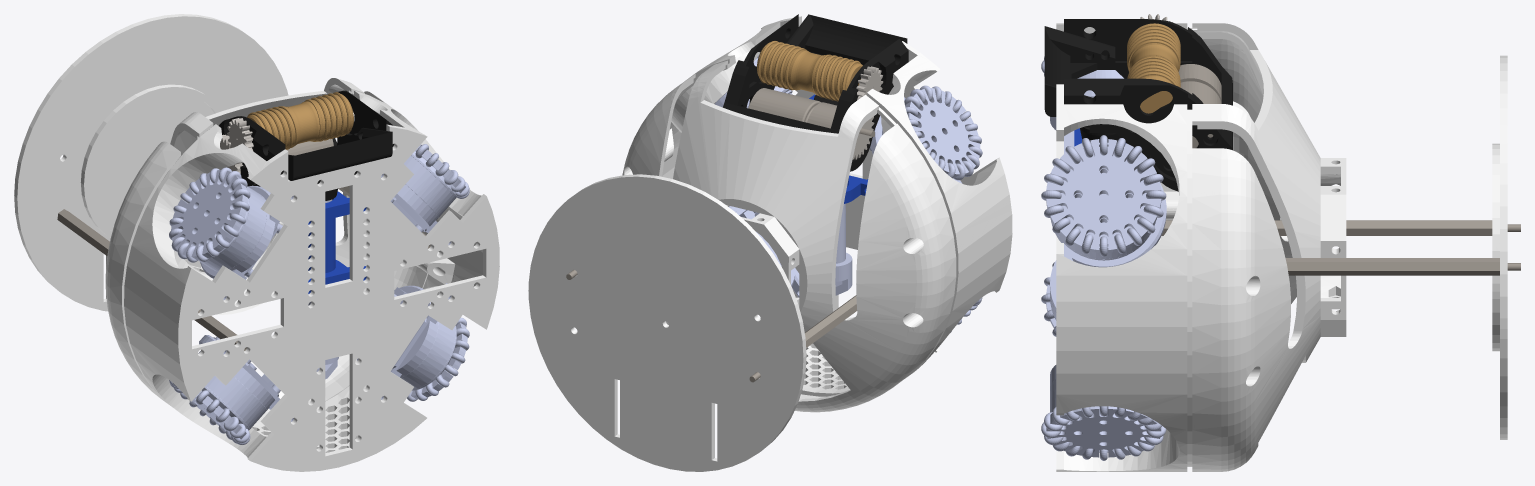
File: white.dae
The picture shows the model from 3 angles, left to right: view 1: azimuth 30°, elevation 25°; view 2: azimuth 150°, elevation 25°; view 3: azimuth 270°, elevation 25°; orthographic projection. The views are drawn at different scales.
Parts seen in each view (by area): view 1: node_3ff6a1fe_1cc8_49cc_9179_00ad8195f03d_mesh0, node_cc28397b_6e0a_477d_af67_ad8a3c4fa3c4_mesh0, node_f33fe21d_2a13_414c_9b8f_e99a0c592262_mesh0, node_ee789e72_c530_4512_9e09_5a3aa8ee8e9d_mesh0, node_b406ad30_0e1e_4aae_975f_659c6a06e58f_mesh0, node_2034029b_8649_498c_b8b5_ca5f5e407f8b_mesh0, node_f1f51d3c_36ec_4f76_a2a5_a3d44df8156d_mesh0, node_0c529241_4035_48ce_85be_b0c6907b59df_mesh0, node_a46794fe_b9b9_458e_83d2_d6c06e868703_mesh0, node_f8143374_f513_43b2_8296_ff6a9ff105f2_mesh0, node_e9de9418_07e8_4656_b547_eb7011403bdc_mesh0, node_e0108f64_dc8d_4784_98ee_9a3391516459_mesh0 (+5 smaller); view 2: node_cc28397b_6e0a_477d_af67_ad8a3c4fa3c4_mesh0, node_f33fe21d_2a13_414c_9b8f_e99a0c592262_mesh0, node_3ff6a1fe_1cc8_49cc_9179_00ad8195f03d_mesh0, node_e9de9418_07e8_4656_b547_eb7011403bdc_mesh0, node_ee789e72_c530_4512_9e09_5a3aa8ee8e9d_mesh0, node_b406ad30_0e1e_4aae_975f_659c6a06e58f_mesh0, node_a46794fe_b9b9_458e_83d2_d6c06e868703_mesh0, node_5dc9f0d7_19d7_4166_a7ad_529a3dc1bb49_mesh0, node_36328dc5_ca0c_473e_89ec_eecefb7f6568_mesh0, node_e559ee51_1bd5_49ef_845b_68ea84a15885_mesh0, node_695cc98a_4506_4f41_a7f7_0299c0ab0a05_mesh0, node_2034029b_8649_498c_b8b5_ca5f5e407f8b_mesh0; view 3: node_f33fe21d_2a13_414c_9b8f_e99a0c592262_mesh0, node_3ff6a1fe_1cc8_49cc_9179_00ad8195f03d_mesh0, node_3812c202_3569_439a_9afa_28e5b2689832_mesh0, node_e9de9418_07e8_4656_b547_eb7011403bdc_mesh0, node_9775e325_18a5_4371_94ce_a51956eee878_mesh0, node_cc28397b_6e0a_477d_af67_ad8a3c4fa3c4_mesh0, node_7a3c8f1c_94a9_40fe_954d_6d4fb3b67b44_mesh0, node_b406ad30_0e1e_4aae_975f_659c6a06e58f_mesh0, node_a46794fe_b9b9_458e_83d2_d6c06e868703_mesh0, node_f8143374_f513_43b2_8296_ff6a9ff105f2_mesh0, node_36328dc5_ca0c_473e_89ec_eecefb7f6568_mesh0, node_5dc9f0d7_19d7_4166_a7ad_529a3dc1bb49_mesh0.
Part boxes in pixels (left/top/right/bottom): node_3ff6a1fe_1cc8_49cc_9179_00ad8195f03d_mesh0: left=124, top=90, right=499, bottom=471; node_cc28397b_6e0a_477d_af67_ad8a3c4fa3c4_mesh0: left=14, top=14, right=288, bottom=311; node_f33fe21d_2a13_414c_9b8f_e99a0c592262_mesh0: left=105, top=78, right=427, bottom=422; node_ee789e72_c530_4512_9e09_5a3aa8ee8e9d_mesh0: left=169, top=167, right=250, bottom=262; node_b406ad30_0e1e_4aae_975f_659c6a06e58f_mesh0: left=247, top=92, right=353, bottom=149; node_2034029b_8649_498c_b8b5_ca5f5e407f8b_mesh0: left=357, top=283, right=456, bottom=399; node_f1f51d3c_36ec_4f76_a2a5_a3d44df8156d_mesh0: left=198, top=185, right=293, bottom=300; node_0c529241_4035_48ce_85be_b0c6907b59df_mesh0: left=198, top=335, right=293, bottom=430; node_a46794fe_b9b9_458e_83d2_d6c06e868703_mesh0: left=288, top=127, right=392, bottom=180; node_f8143374_f513_43b2_8296_ff6a9ff105f2_mesh0: left=381, top=151, right=456, bottom=245; node_e9de9418_07e8_4656_b547_eb7011403bdc_mesh0: left=219, top=90, right=394, bottom=186; node_e0108f64_dc8d_4784_98ee_9a3391516459_mesh0: left=308, top=191, right=366, bottom=293; node_cc28397b_6e0a_477d_af67_ad8a3c4fa3c4_mesh0: left=528, top=174, right=806, bottom=471; node_f33fe21d_2a13_414c_9b8f_e99a0c592262_mesh0: left=622, top=60, right=956, bottom=412; node_3ff6a1fe_1cc8_49cc_9179_00ad8195f03d_mesh0: left=662, top=16, right=1012, bottom=396; node_e9de9418_07e8_4656_b547_eb7011403bdc_mesh0: left=723, top=14, right=908, bottom=171; node_ee789e72_c530_4512_9e09_5a3aa8ee8e9d_mesh0: left=904, top=85, right=982, bottom=180; node_b406ad30_0e1e_4aae_975f_659c6a06e58f_mesh0: left=757, top=41, right=862, bottom=101; node_a46794fe_b9b9_458e_83d2_d6c06e868703_mesh0: left=786, top=14, right=907, bottom=64; node_5dc9f0d7_19d7_4166_a7ad_529a3dc1bb49_mesh0: left=748, top=88, right=874, bottom=136; node_36328dc5_ca0c_473e_89ec_eecefb7f6568_mesh0: left=749, top=295, right=856, bottom=382; node_e559ee51_1bd5_49ef_845b_68ea84a15885_mesh0: left=835, top=252, right=852, bottom=295; node_695cc98a_4506_4f41_a7f7_0299c0ab0a05_mesh0: left=856, top=66, right=883, bottom=100; node_2034029b_8649_498c_b8b5_ca5f5e407f8b_mesh0: left=729, top=206, right=799, bottom=297; node_f33fe21d_2a13_414c_9b8f_e99a0c592262_mesh0: left=1192, top=23, right=1346, bottom=471; node_3ff6a1fe_1cc8_49cc_9179_00ad8195f03d_mesh0: left=1056, top=23, right=1192, bottom=471; node_3812c202_3569_439a_9afa_28e5b2689832_mesh0: left=1041, top=135, right=1166, bottom=256; node_e9de9418_07e8_4656_b547_eb7011403bdc_mesh0: left=1064, top=19, right=1232, bottom=191; node_9775e325_18a5_4371_94ce_a51956eee878_mesh0: left=1041, top=406, right=1166, bottom=460; node_cc28397b_6e0a_477d_af67_ad8a3c4fa3c4_mesh0: left=1492, top=55, right=1507, bottom=439; node_7a3c8f1c_94a9_40fe_954d_6d4fb3b67b44_mesh0: left=1285, top=258, right=1520, bottom=275; node_b406ad30_0e1e_4aae_975f_659c6a06e58f_mesh0: left=1127, top=23, right=1180, bottom=113; node_a46794fe_b9b9_458e_83d2_d6c06e868703_mesh0: left=1044, top=26, right=1115, bottom=116; node_f8143374_f513_43b2_8296_ff6a9ff105f2_mesh0: left=1050, top=131, right=1166, bottom=267; node_36328dc5_ca0c_473e_89ec_eecefb7f6568_mesh0: left=1161, top=220, right=1520, bottom=235; node_5dc9f0d7_19d7_4166_a7ad_529a3dc1bb49_mesh0: left=1178, top=64, right=1221, bottom=148.
Size of the model in its own units: 0.175 by 0.1735 by 0.187.
